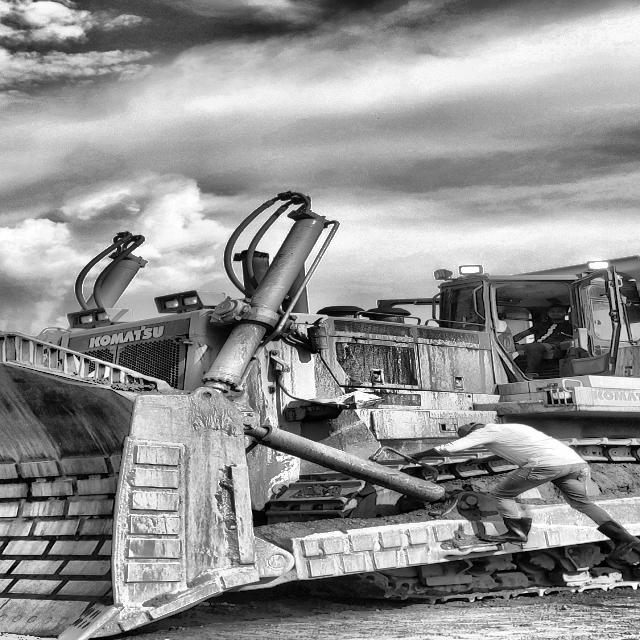buldozerpayloadergrader: (0, 198, 640, 640)
